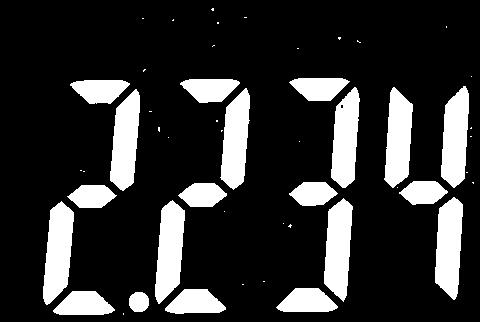2: (35, 77, 142, 316), (156, 77, 253, 315)
3: (273, 73, 361, 316)
4: (382, 83, 472, 300)
dot: (127, 291, 150, 313)
